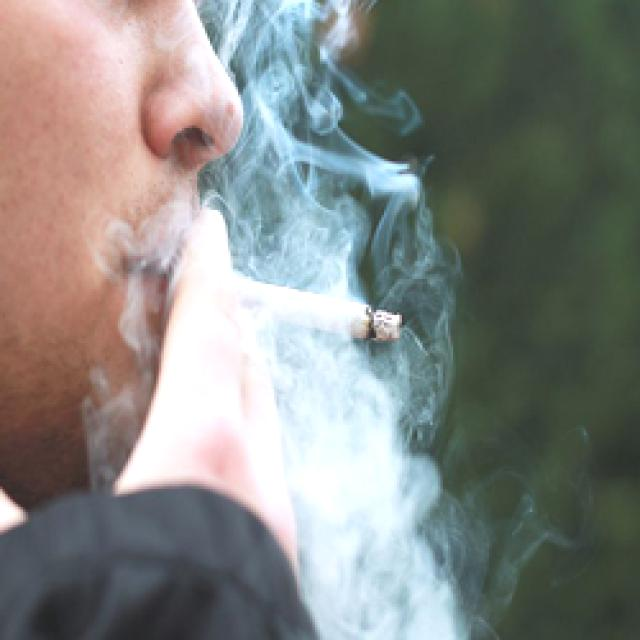Smooking: (224, 240, 428, 374)
